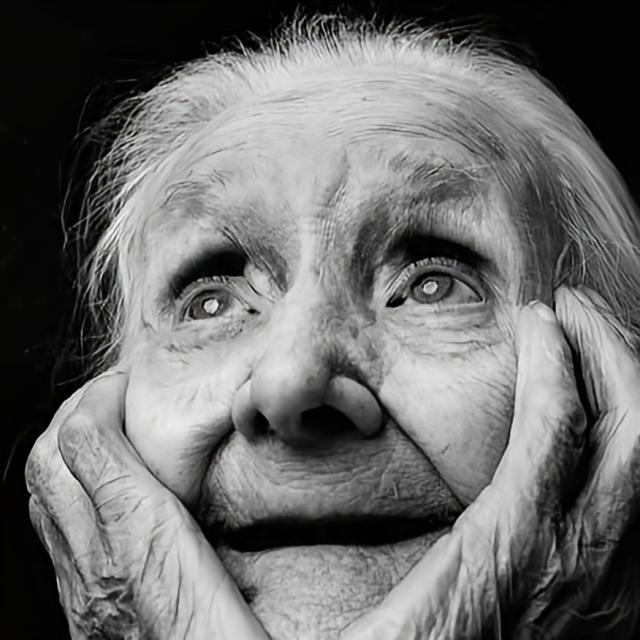fear: (116, 60, 536, 640)
